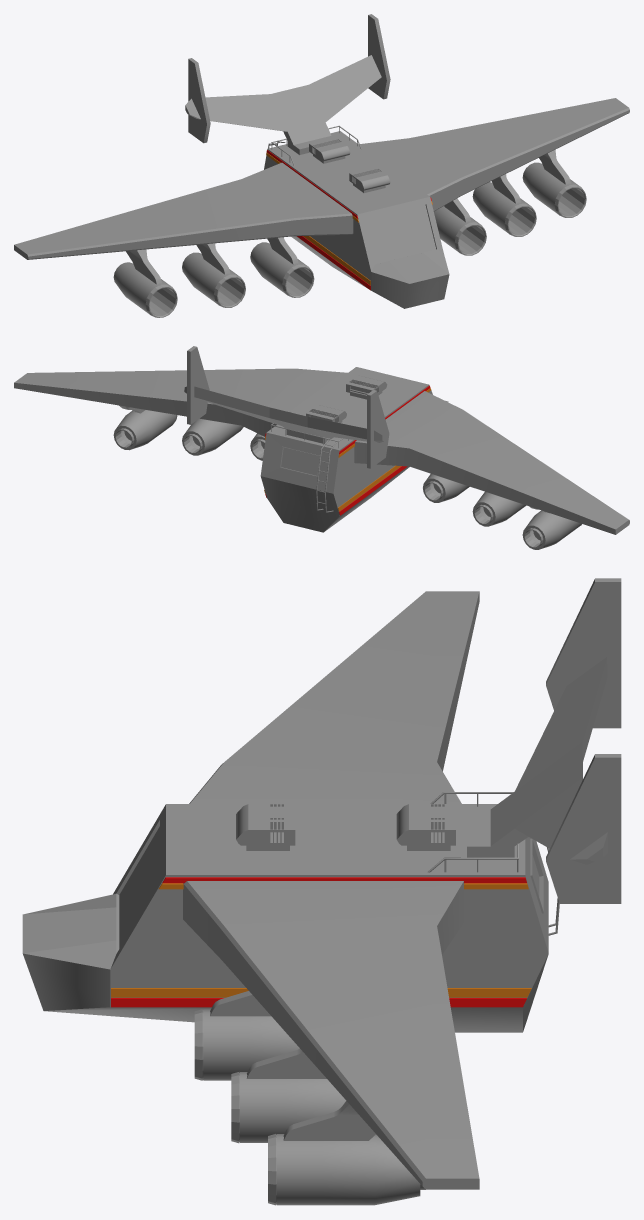
The model's file is Boss03.FBX.
3 views of the same model, one above another, from view 1: azimuth 30°, elevation 25°; view 2: azimuth 150°, elevation 25°; view 3: azimuth 270°, elevation 25° (orthographic). The views are drawn at different scales.
Parts seen in each view (by area): view 1: Box004, Box001, Box005, Cylinder001, Cylinder002, Cylinder003, Box002, Box003; view 2: Box004, Box001, Box005, Cylinder001, Cylinder002, Cylinder003, Box002, Line001, Box003, Box006, Box007; view 3: Box004, Box001, Box005, Cylinder001, Cylinder002, Cylinder003, Box003, Box002, Box009, Box008, Object003.
Boxes of the visible parts, box(x1,y1,x2,y2) form: Box004: box(14, 98, 629, 259); Box001: box(264, 131, 449, 308); Box005: box(185, 14, 390, 154); Cylinder001: box(113, 149, 586, 317); Cylinder002: box(182, 174, 536, 307); Cylinder003: box(250, 198, 486, 297); Box002: box(349, 166, 390, 192); Box003: box(309, 137, 350, 163); Box004: box(14, 368, 629, 534); Box001: box(260, 367, 448, 532); Box005: box(184, 346, 389, 468); Cylinder001: box(113, 405, 581, 549); Cylinder002: box(182, 418, 526, 526); Cylinder003: box(250, 433, 469, 502); Box002: box(346, 375, 387, 399); Line001: box(270, 411, 348, 512); Box003: box(306, 405, 346, 423); Box006: box(339, 466, 407, 515); Box007: box(338, 465, 400, 511); Box004: box(183, 591, 479, 1189); Box001: box(22, 804, 548, 1032); Box005: box(467, 578, 621, 903); Cylinder001: box(268, 1101, 425, 1205); Cylinder002: box(231, 1048, 346, 1143); Cylinder003: box(194, 991, 299, 1080); Box003: box(396, 804, 455, 850); Box002: box(236, 804, 295, 850); Box009: box(111, 988, 531, 997); Box008: box(111, 998, 526, 1007); Object003: box(162, 877, 526, 883).
Size of the model in its own units: 513 by 141 by 221.
